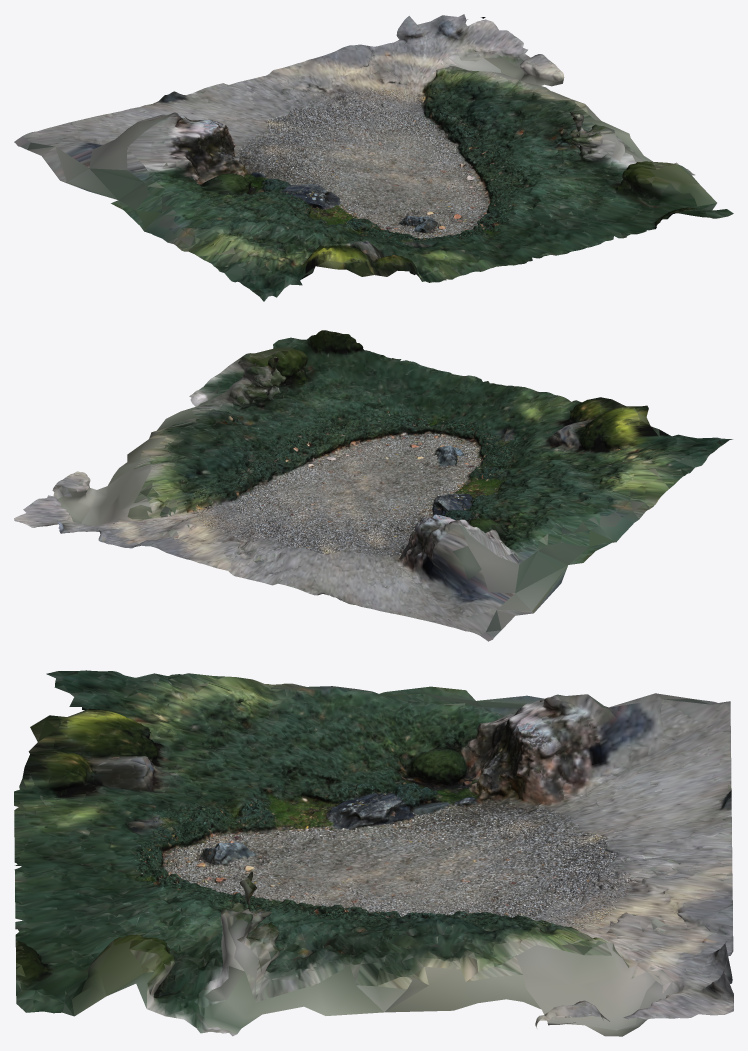
Rendered from white_gravel_compressed.glb.
The picture shows the model from 3 angles, top to bottom: view 1: azimuth 30°, elevation 25°; view 2: azimuth 150°, elevation 25°; view 3: azimuth 270°, elevation 25°; orthographic projection. The views are drawn at different scales.
Parts seen in each view (by area): view 1: Mesh_0; view 2: Mesh_0; view 3: Mesh_0.
Part boxes in pixels (bbox=[...]): Mesh_0: bbox=[14, 14, 733, 301]; Mesh_0: bbox=[14, 330, 732, 641]; Mesh_0: bbox=[14, 670, 733, 1036].
Size of the model in its own units: 16.53 by 2.74 by 15.51.
Materials: 1 (1 with a texture image).
